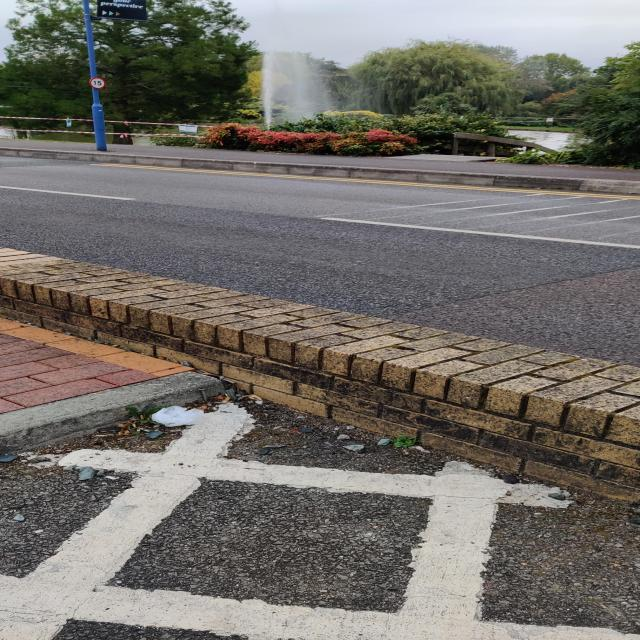litter: (148, 404, 206, 427)
